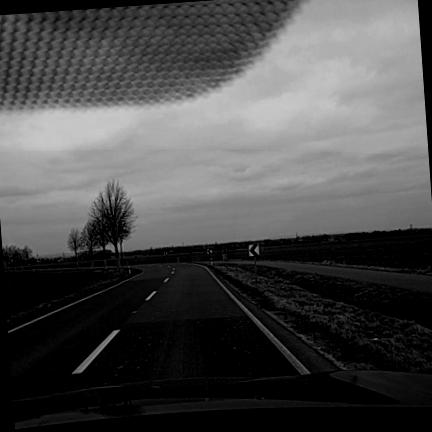Road: (8, 264, 334, 399), (258, 261, 431, 293)
